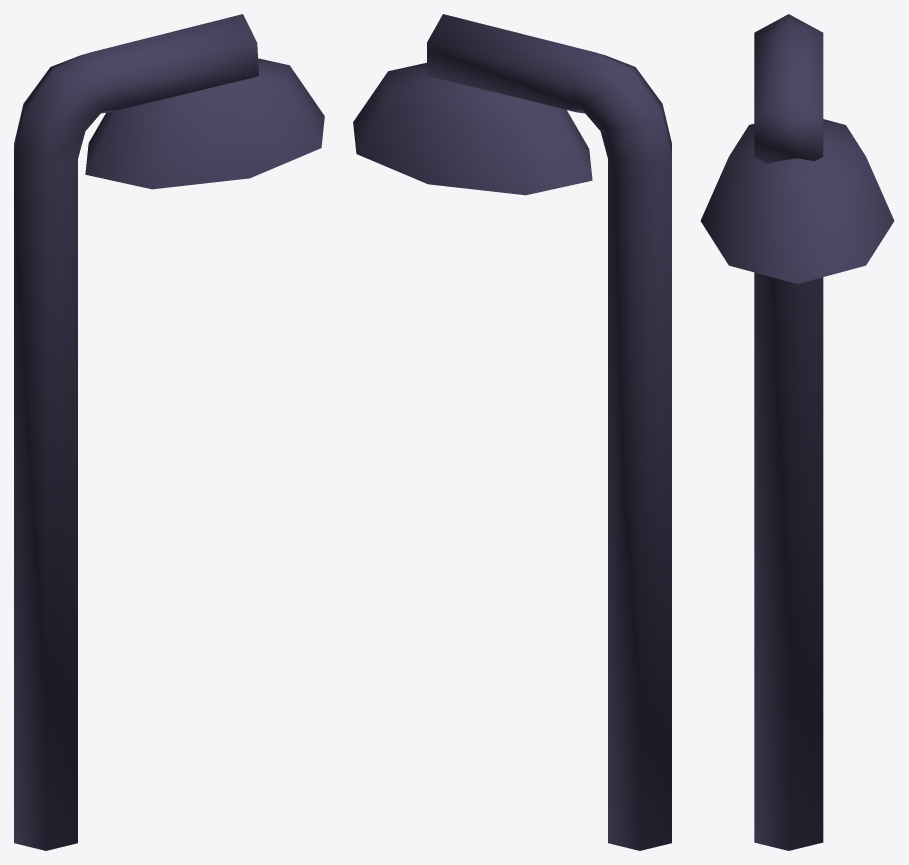
The model's file is Streetlamp.fbx.
The picture shows the model from 3 angles, left to right: view 1: azimuth 30°, elevation 25°; view 2: azimuth 150°, elevation 25°; view 3: azimuth 270°, elevation 25°; orthographic projection. The views are drawn at different scales.
Visible parts, largest first — view 1: Cylinder007, Sphere007; view 2: Cylinder007, Sphere007; view 3: Cylinder007, Sphere007.
Boxes of the visible parts, x1,y1,x2,y2 form: Cylinder007: (14, 14, 258, 850); Sphere007: (85, 58, 324, 189); Cylinder007: (427, 14, 671, 850); Sphere007: (353, 62, 592, 195); Cylinder007: (754, 14, 823, 850); Sphere007: (700, 119, 894, 283).
Size of the model in its own units: 182 by 428 by 89.98.
